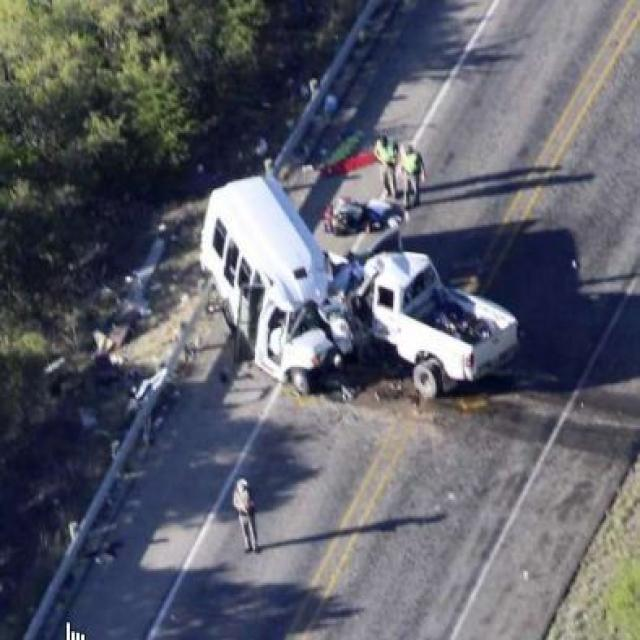traffic_incident: (158, 186, 530, 408)
